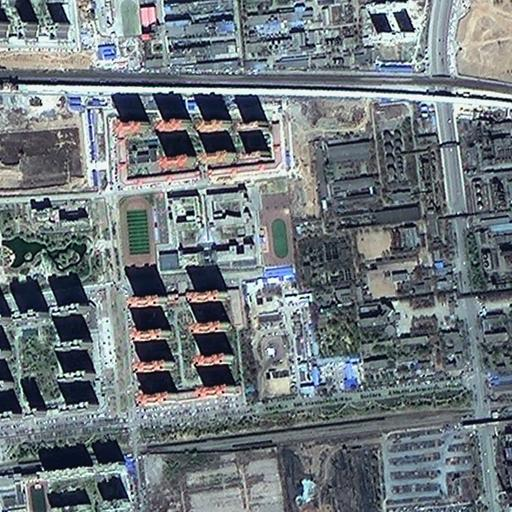school: (112, 185, 254, 270), (261, 200, 296, 280)
